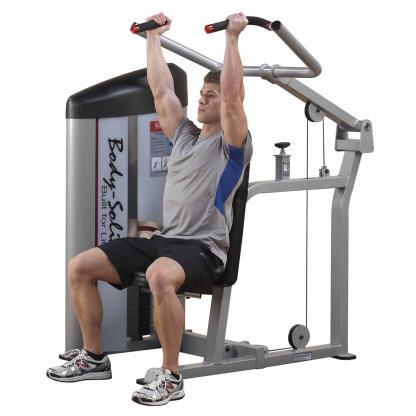shoulder press machine: (43, 8, 378, 409)
